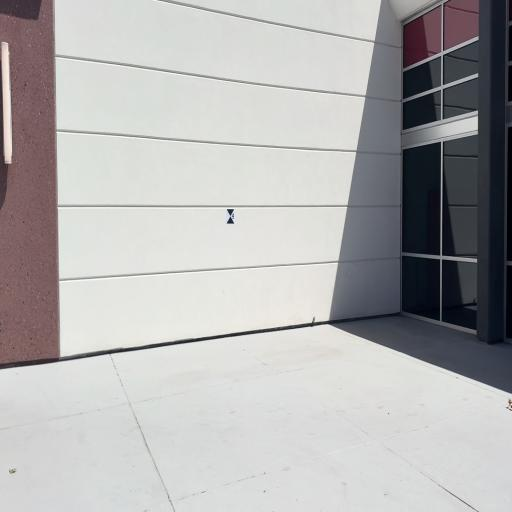target4: (226, 208, 235, 224)
